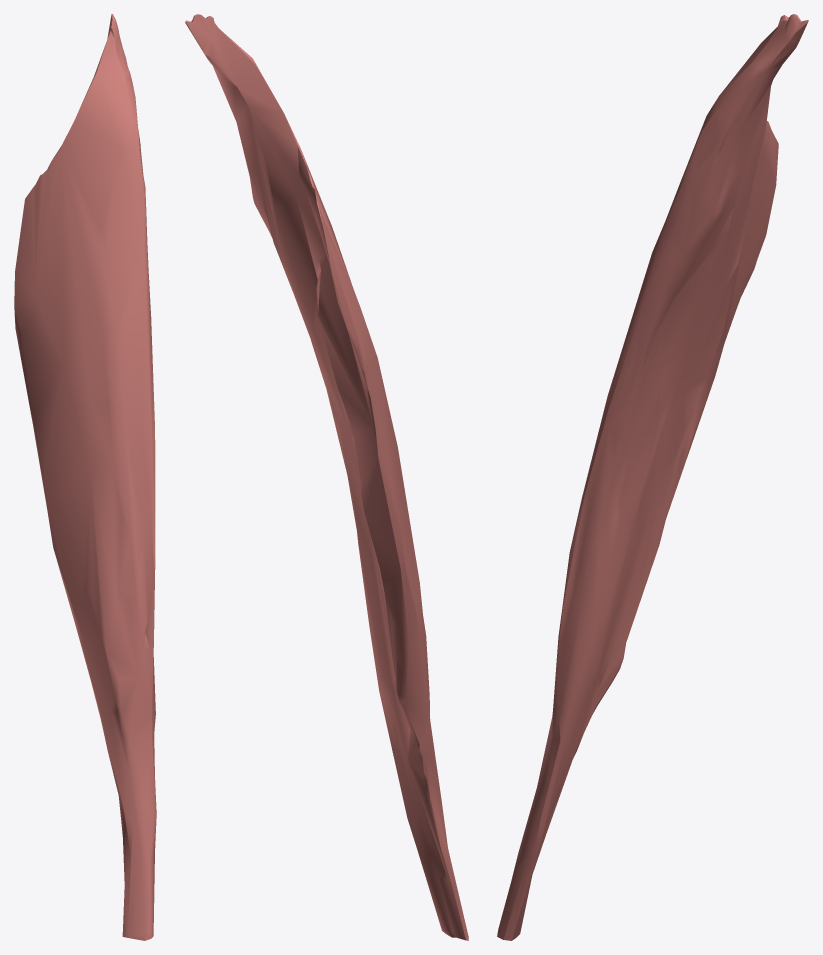
Rendered from fma38470_fj1499.glb.
The picture shows the model from 3 angles, left to right: view 1: azimuth 30°, elevation 25°; view 2: azimuth 150°, elevation 25°; view 3: azimuth 270°, elevation 25°; orthographic projection. The views are drawn at different scales.
Visible parts, largest first — view 1: FMA38470_FJ1499; view 2: FMA38470_FJ1499; view 3: FMA38470_FJ1499.
Boxes of the visible parts, x1,y1,x2,y2 form: FMA38470_FJ1499: (14, 14, 156, 940); FMA38470_FJ1499: (185, 14, 468, 940); FMA38470_FJ1499: (497, 14, 808, 940).
Bounding box in the file's own units: 0.0281 × 0.1791 × 0.052.
